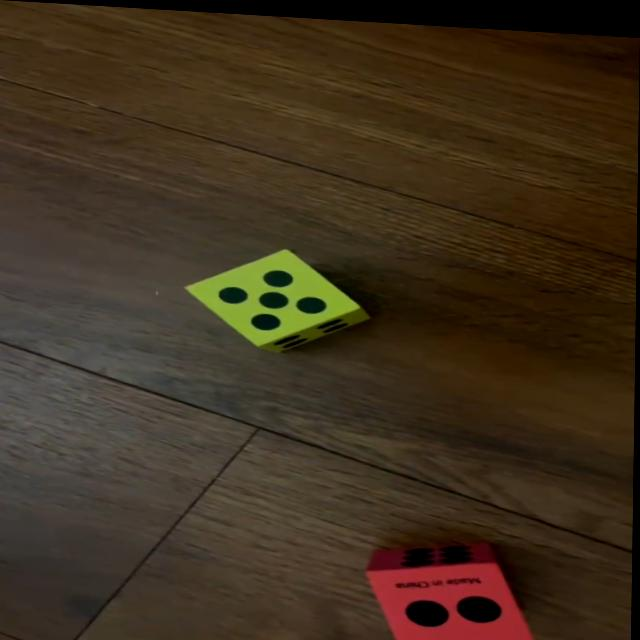cube: (369, 530, 537, 640)
